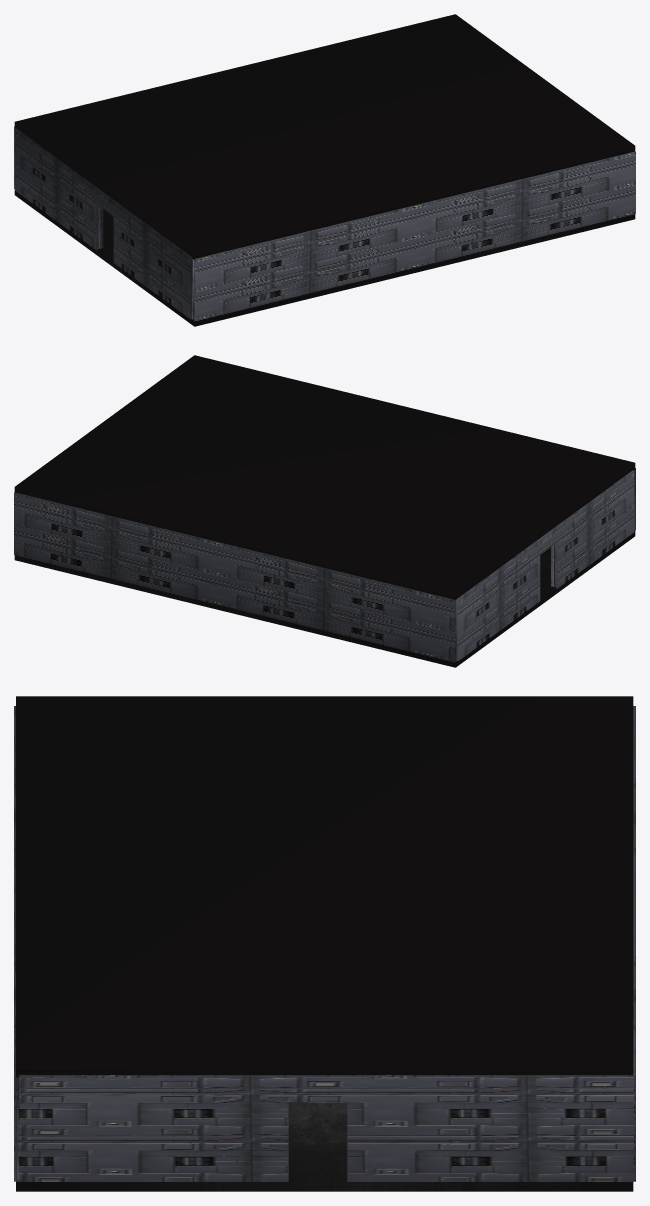
File: paretsHabitacio3.fbx
The picture shows the model from 3 angles, top to bottom: view 1: azimuth 30°, elevation 25°; view 2: azimuth 150°, elevation 25°; view 3: azimuth 270°, elevation 25°; orthographic projection. The views are drawn at different scales.
Parts seen in each view (by area): view 1: Cube_012, Cube_002, Cube, Cube_003; view 2: Cube_012, Cube_006, Cube, Cube_003; view 3: Cube_012, Cube_001, Cube_003, Cube_002, Cube_006.
Part boxes in pixels (left/top/right/bottom): Cube_012: left=14, top=14, right=635, bottom=259; Cube_002: left=192, top=151, right=635, bottom=321; Cube: left=14, top=128, right=192, bottom=319; Cube_003: left=14, top=191, right=635, bottom=326; Cube_012: left=14, top=355, right=635, bottom=599; Cube_006: left=14, top=492, right=456, bottom=662; Cube: left=456, top=470, right=634, bottom=661; Cube_003: left=14, top=529, right=635, bottom=667; Cube_012: left=16, top=696, right=633, bottom=1077; Cube_001: left=19, top=1070, right=633, bottom=1181; Cube_003: left=16, top=1102, right=633, bottom=1191; Cube_002: left=14, top=706, right=19, bottom=1181; Cube_006: left=633, top=706, right=635, bottom=1181.
Bounding box in the file's own units: 29.99 × 4.75 × 21.25.
